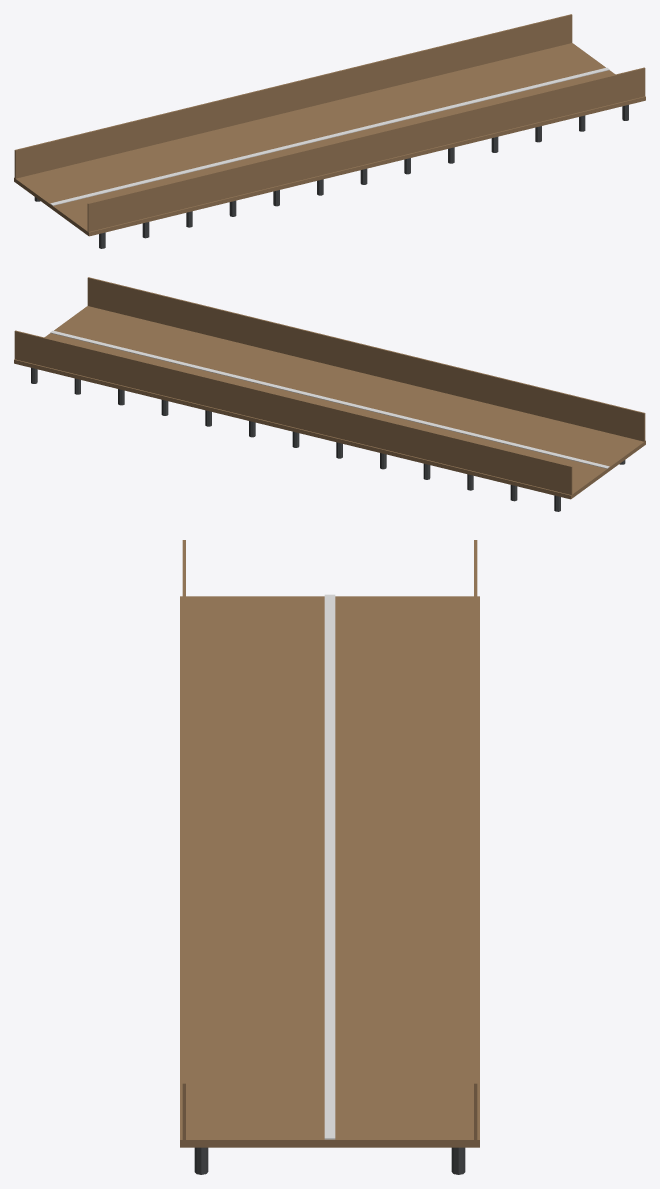
Rendered from SM_Pier_Big.fbx.
3 renders of one model, top to bottom at view 1: azimuth 30°, elevation 25°; view 2: azimuth 150°, elevation 25°; view 3: azimuth 270°, elevation 25°, orthographic. The views are drawn at different scales.
Parts seen in each view (by area): view 1: SM_Pier_Big; view 2: SM_Pier_Big; view 3: SM_Pier_Big.
Part boxes in pixels (x1,y1,x2,y2): SM_Pier_Big: (14, 14, 645, 248); SM_Pier_Big: (14, 277, 645, 511); SM_Pier_Big: (180, 540, 479, 1174).
Size of the model in its own units: 6000 by 1400 by 530.
